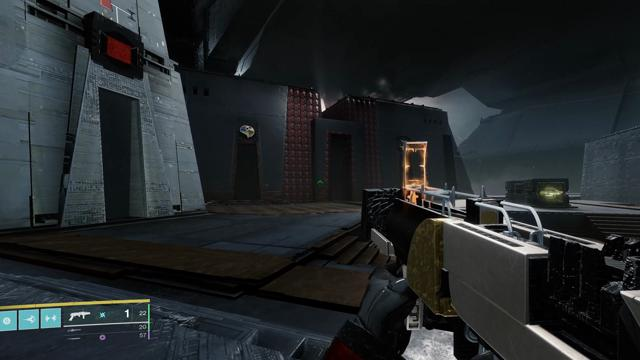brain: (239, 123, 257, 140)
drink: (399, 139, 407, 150)
stop: (99, 30, 137, 69)
